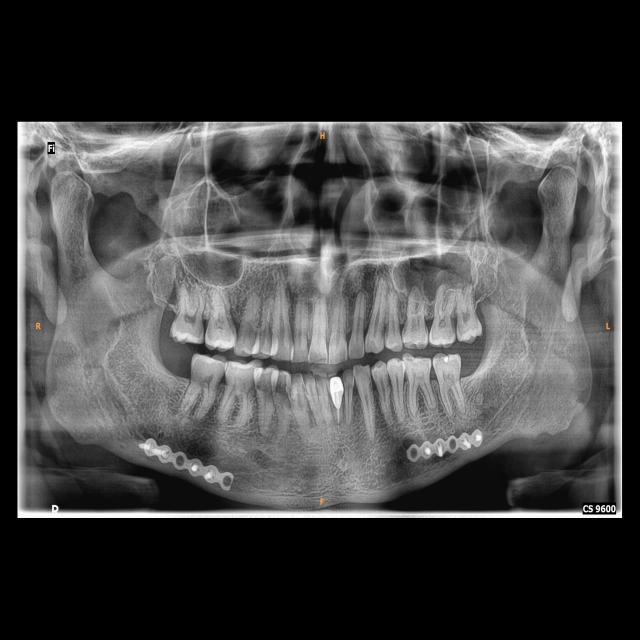dentin-curugu: (258, 371, 272, 391), (274, 380, 290, 396)
kanal-tedavisi: (334, 409, 342, 433)
kaplama: (331, 376, 342, 406)
